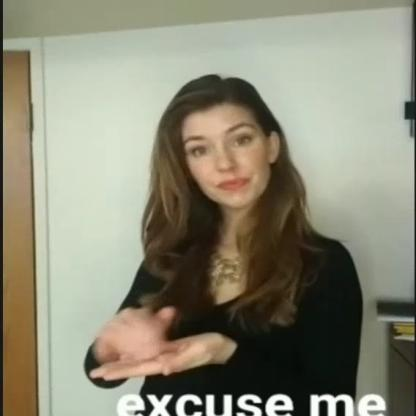ExcuseMe: (62, 284, 244, 396)
